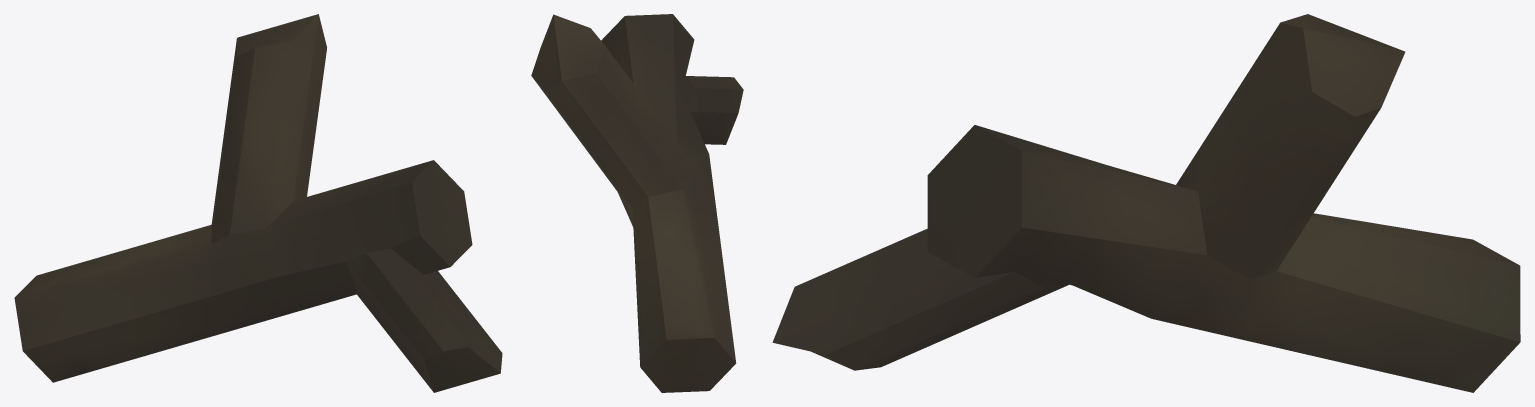
File: polysurface135_lambert6_0_lev2.glb
The picture shows the model from 3 angles, left to right: view 1: azimuth 30°, elevation 25°; view 2: azimuth 150°, elevation 25°; view 3: azimuth 270°, elevation 25°; orthographic projection. The views are drawn at different scales.
Visible parts, largest first — view 1: polysurface135_lambert6_0_lev2; view 2: polysurface135_lambert6_0_lev2; view 3: polysurface135_lambert6_0_lev2.
Boxes of the visible parts, x1=… form: polysurface135_lambert6_0_lev2: x1=14, y1=14, x2=502, y2=392; polysurface135_lambert6_0_lev2: x1=531, y1=14, x2=743, y2=392; polysurface135_lambert6_0_lev2: x1=772, y1=14, x2=1520, y2=392.
Bounding box in the file's own units: 0.2903 × 0.3203 × 0.4398.
Materials: 1 (1 with a texture image).
